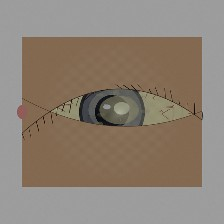corneal_ulcer: (87, 84, 151, 136)
